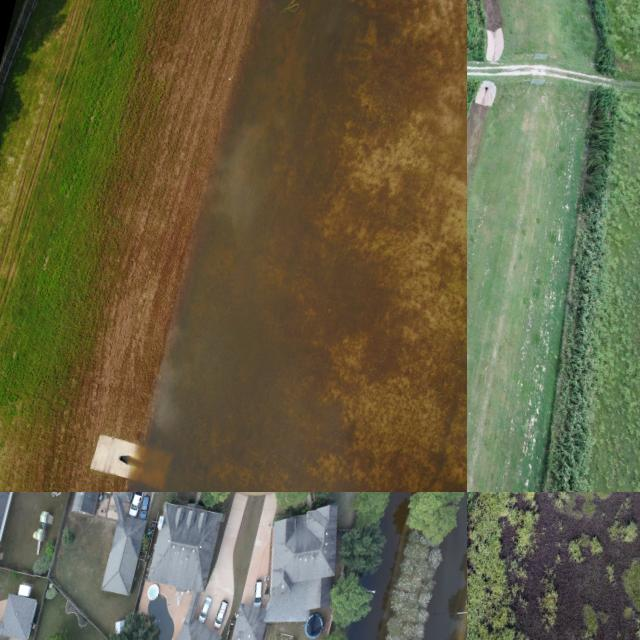fire: (148, 0, 467, 492), (348, 492, 467, 640)
